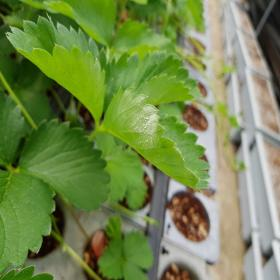Powdery Mildew Leaf: (102, 84, 212, 193)
